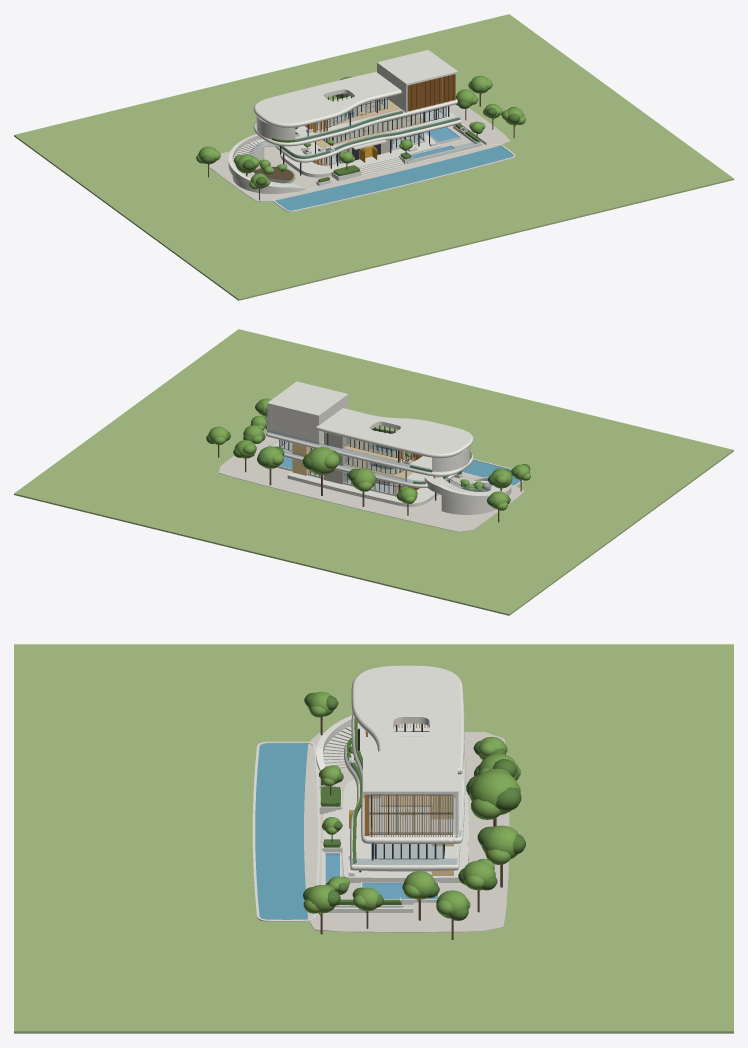
Rendered from arqo-pavilion-01.glb.
3 renders of one model, top to bottom at view 1: azimuth 30°, elevation 25°; view 2: azimuth 150°, elevation 25°; view 3: azimuth 270°, elevation 25°, orthographic. The views are drawn at different scales.
Parts seen in each view (by area): view 1: Site_ground, Roof_Canopy_stone, Pool, Site_paving, Curtain_Wall_glass, Tree_Canopy_leaf, Louvre_Frame_stone, Interior_interior, Floor_Plate_1_stone, Louvres_timber, Pools_stone, Floor_Plate_2_stone (+6 smaller); view 2: Site_ground, Site_paving, Roof_Canopy_stone, Tree_Canopy_leaf, Louvre_Frame_stone, Curtain_Wall_glass, Ramp_stone, Podium_stone, Floor_Plate_2_stone, Tree_Canopy_leafDark, Interior_interior, Floor_Plate_1_stone (+3 smaller); view 3: Site_ground, Pool, Site_paving, Roof_Canopy_stone, Tree_Canopy_leaf, Floor_Plate_2_stone, Louvre_Frame_stone, Curtain_Wall_glass, Floor_Plate_1_stone, Tree_Canopy_leafDark, Pools_stone, Louvres_timber (+6 smaller).
Boxes of the visible parts, <box> form: Site_ground: <box>14,14,733,300</box>; Roof_Canopy_stone: <box>253,71,401,139</box>; Pool: <box>275,127,513,210</box>; Site_paving: <box>205,104,510,201</box>; Curtain_Wall_glass: <box>250,97,481,183</box>; Tree_Canopy_leaf: <box>196,75,525,189</box>; Louvre_Frame_stone: <box>377,50,457,112</box>; Interior_interior: <box>314,98,427,157</box>; Floor_Plate_1_stone: <box>276,108,461,162</box>; Louvres_timber: <box>304,74,455,165</box>; Pools_stone: <box>273,123,515,211</box>; Floor_Plate_2_stone: <box>253,96,457,146</box>; Site_ground: <box>14,329,733,615</box>; Site_paving: <box>219,433,524,532</box>; Roof_Canopy_stone: <box>315,408,473,471</box>; Tree_Canopy_leaf: <box>208,398,530,510</box>; Louvre_Frame_stone: <box>267,381,348,444</box>; Curtain_Wall_glass: <box>267,406,491,494</box>; Ramp_stone: <box>424,476,511,514</box>; Podium_stone: <box>287,471,447,506</box>; Floor_Plate_2_stone: <box>266,431,473,476</box>; Tree_Canopy_leafDark: <box>206,402,530,505</box>; Interior_interior: <box>322,439,412,479</box>; Floor_Plate_1_stone: <box>271,440,459,487</box>; Site_ground: <box>14,644,733,1033</box>; Pool: <box>255,743,437,919</box>; Site_paving: <box>304,732,509,932</box>; Roof_Canopy_stone: <box>351,665,464,774</box>; Tree_Canopy_leaf: <box>303,692,520,918</box>; Floor_Plate_2_stone: <box>351,713,465,843</box>; Louvre_Frame_stone: <box>363,751,457,837</box>; Curtain_Wall_glass: <box>345,740,462,864</box>; Floor_Plate_1_stone: <box>344,743,460,870</box>; Tree_Canopy_leafDark: <box>303,692,525,920</box>; Pools_stone: <box>252,741,439,921</box>; Louvres_timber: <box>364,723,452,836</box>.
Bounding box in the file's own units: 140 × 18.8 × 110.
